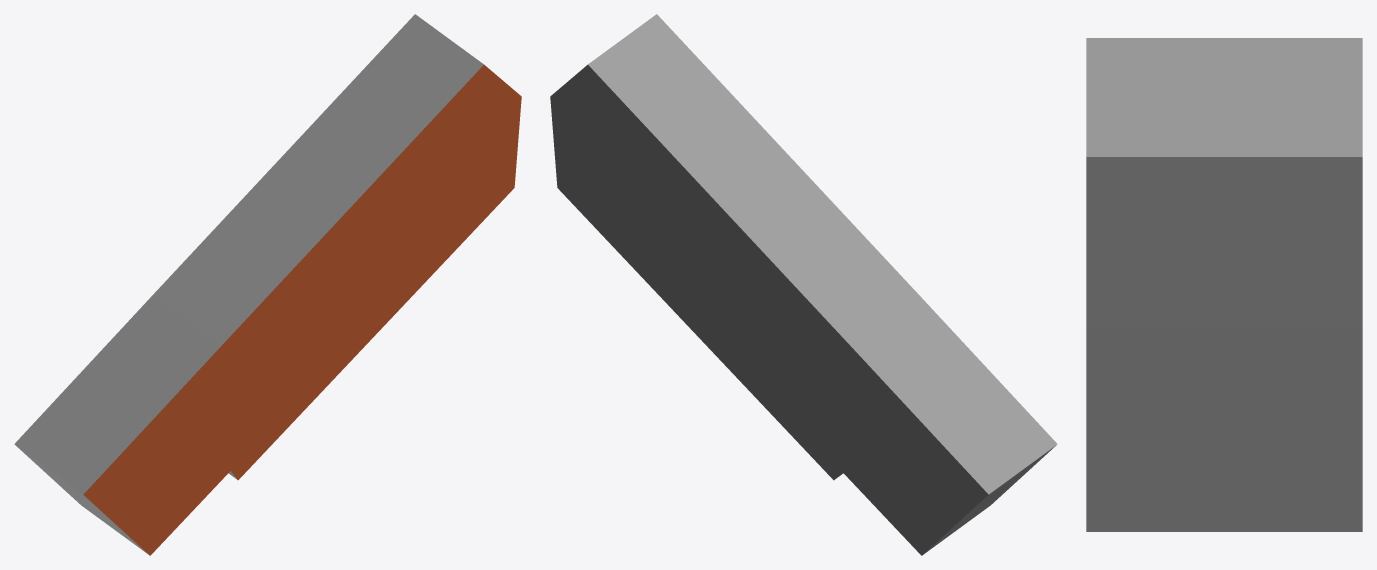
Rendered from construction_2729_assumed_A_Casa_h6m.obj.
The picture shows the model from 3 angles, left to right: view 1: azimuth 30°, elevation 25°; view 2: azimuth 150°, elevation 25°; view 3: azimuth 270°, elevation 25°; orthographic projection. The views are drawn at different scales.
Parts seen in each view (by area): view 1: construction_2729_assumed_A_Casa; view 2: construction_2729_assumed_A_Casa; view 3: construction_2729_assumed_A_Casa.
Part boxes in pixels (x1,y1,x2,y2): construction_2729_assumed_A_Casa: [14, 14, 521, 555]; construction_2729_assumed_A_Casa: [550, 14, 1057, 555]; construction_2729_assumed_A_Casa: [1086, 38, 1362, 531].
Size of the model in its own units: 22.01 by 19.67 by 6.
